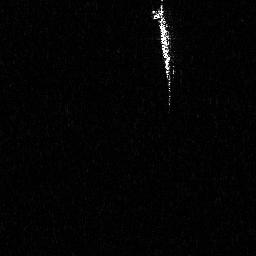ship: (149, 1, 179, 114)
